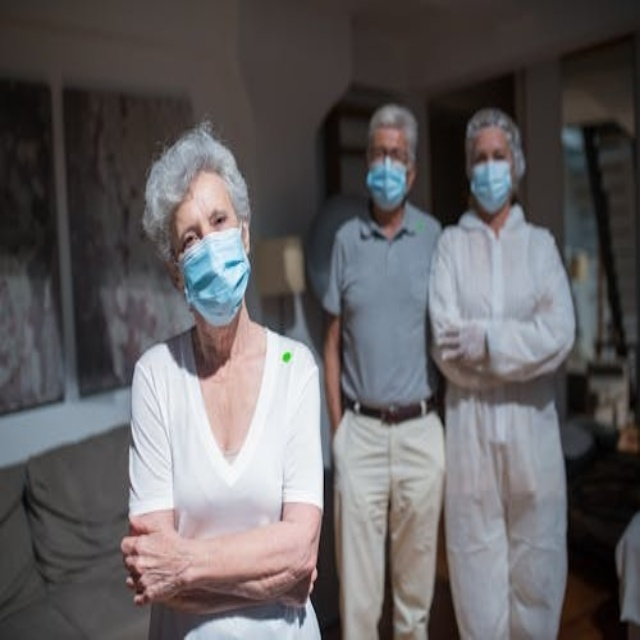Gafas: (366, 136, 412, 167)
Guantes: (442, 322, 488, 365)
Mascara: (180, 227, 251, 326), (469, 159, 512, 213), (366, 157, 409, 210)
Sin_gafas: (173, 190, 234, 253), (470, 140, 513, 165)
Sin_guantes: (122, 526, 194, 609)
